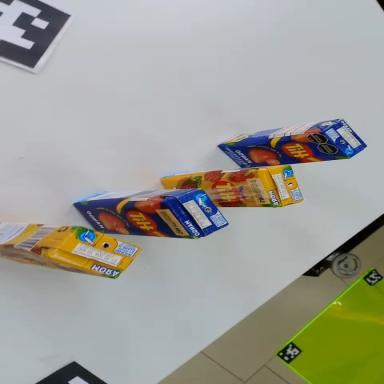HIT-MANGO: (73, 183, 230, 241), (216, 116, 367, 175)
HIT-MORA: (0, 222, 142, 281), (159, 165, 301, 216)
cara_F: (216, 129, 350, 171), (0, 243, 113, 288), (73, 200, 196, 239), (161, 170, 273, 207)
